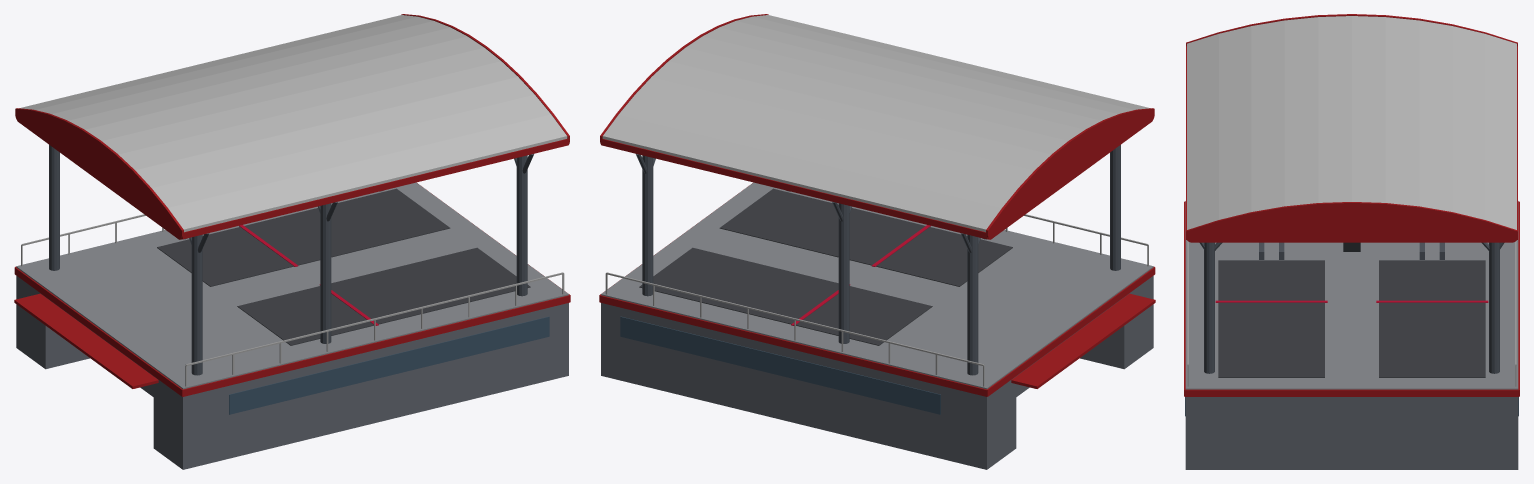
The model's file is tri_terminal.obj.
3 views of the same model, side by side, from view 1: azimuth 30°, elevation 25°; view 2: azimuth 150°, elevation 25°; view 3: azimuth 270°, elevation 25° (orthographic).
Bounding box in the file's own units: 18.96 × 11.76 × 13.37.
